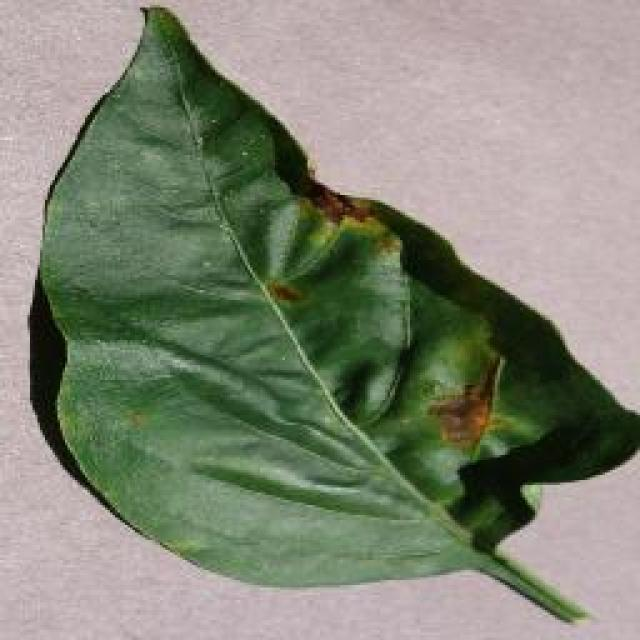Chilli_Bacterial_Spot: (28, 0, 638, 628), (260, 180, 400, 310), (423, 380, 495, 458), (295, 175, 375, 235), (260, 275, 305, 310), (118, 402, 152, 438)
